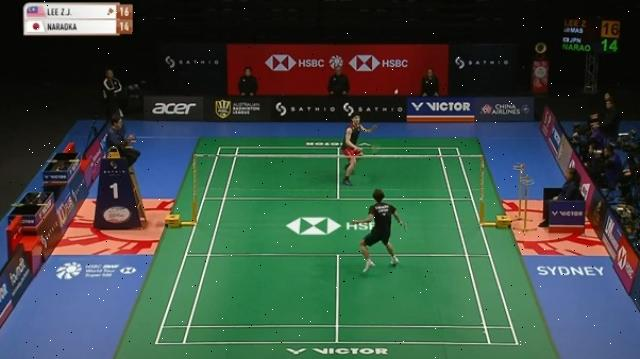Shuttlecock: (391, 87, 401, 97)
